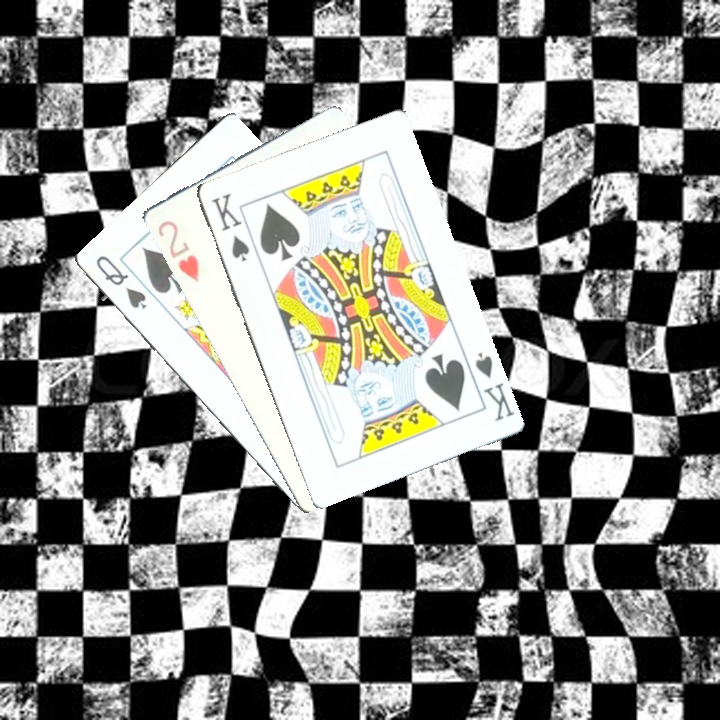2h: (153, 216, 202, 285)
Ks: (459, 348, 515, 424), (208, 189, 253, 264)
Qs: (91, 251, 149, 312)
